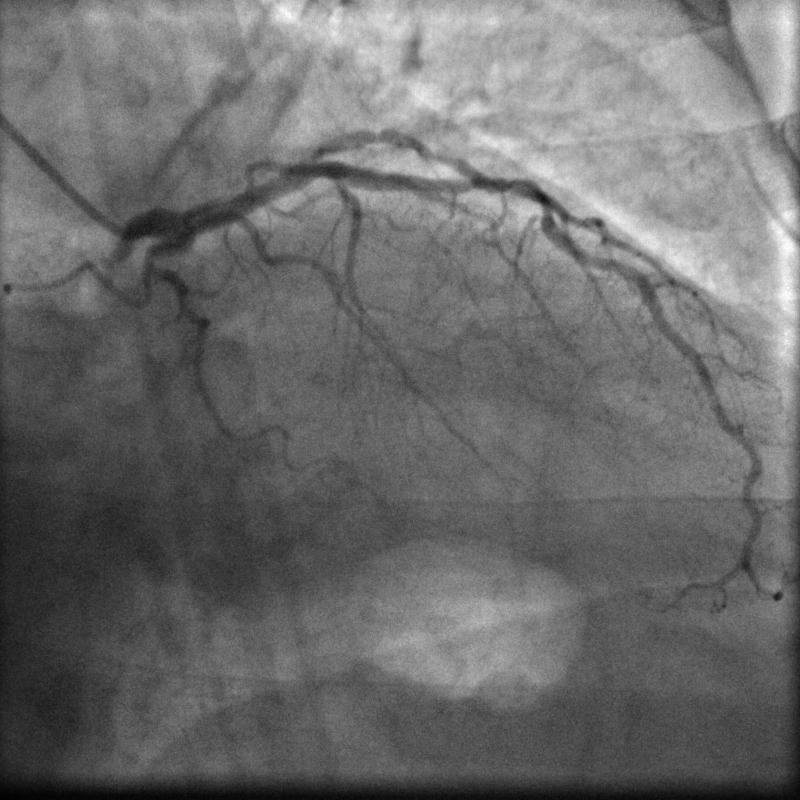Stenosis: (471, 170, 554, 221)
